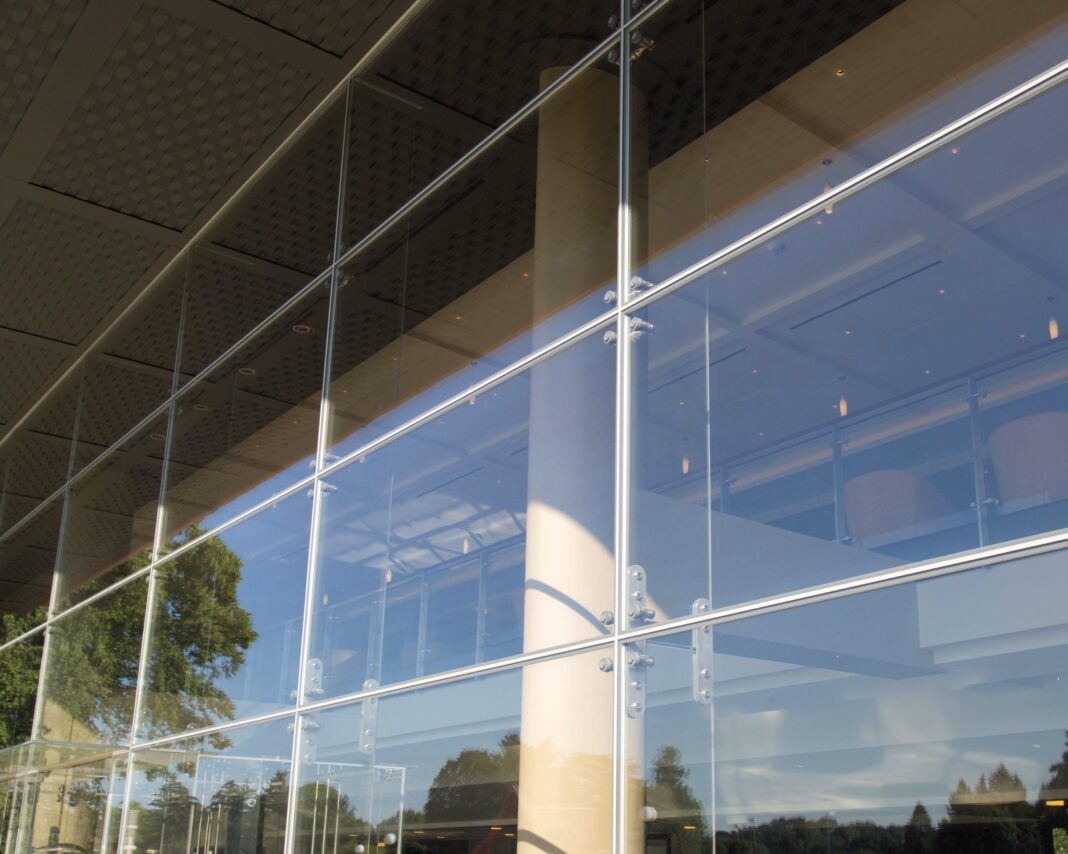glass panel: (629, 87, 1067, 617), (624, 552, 1067, 853), (631, 0, 1067, 281), (328, 59, 617, 454), (311, 331, 615, 695), (343, 0, 618, 247), (294, 650, 612, 853), (180, 98, 344, 381), (162, 282, 328, 542), (140, 491, 311, 738), (206, 96, 344, 279), (72, 257, 185, 473), (123, 719, 293, 853), (54, 413, 165, 609), (37, 577, 148, 747), (179, 244, 312, 382), (0, 375, 80, 535), (4, 755, 126, 853), (0, 499, 62, 639), (0, 630, 43, 749)
